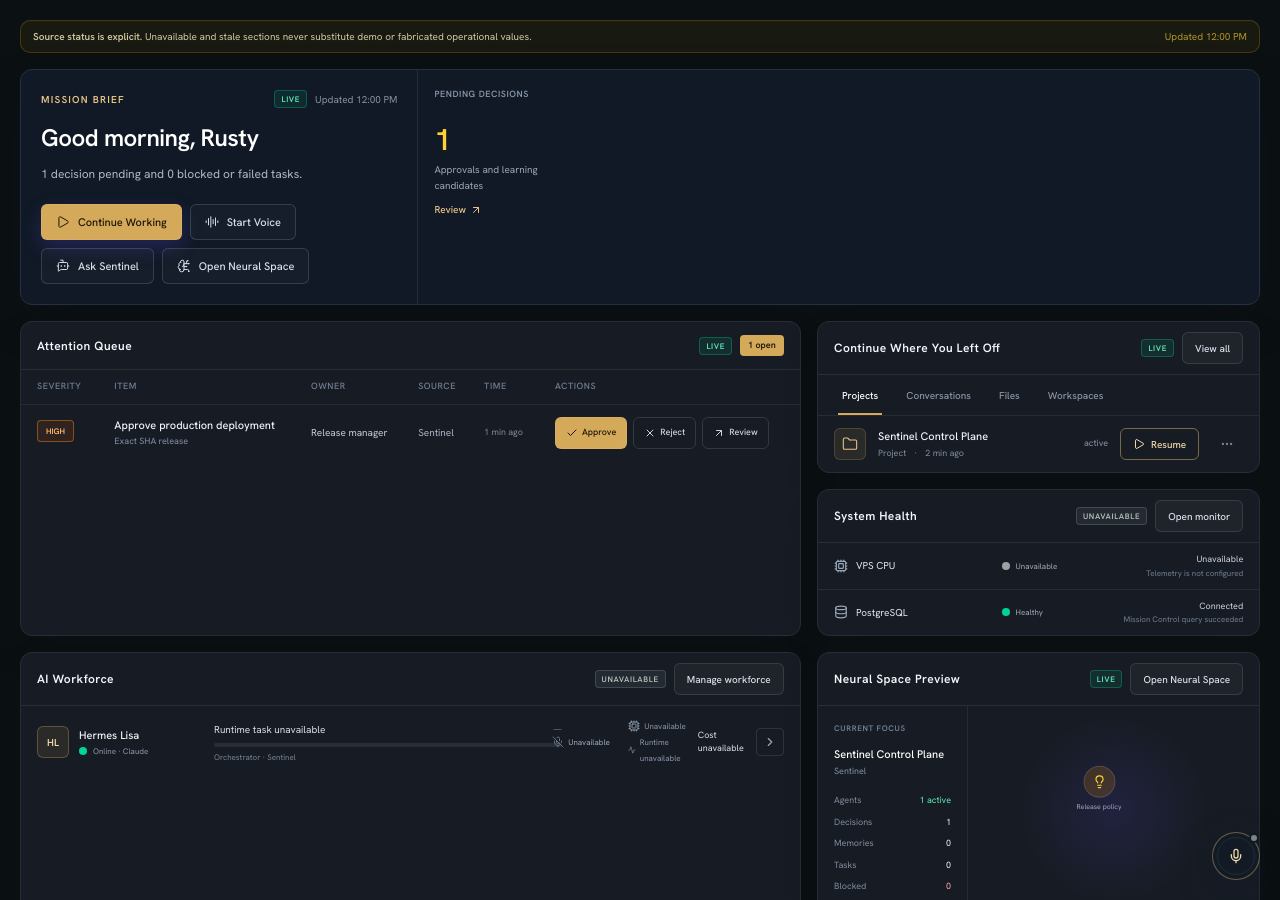
Test: MissionControlPage › keeps a failed approval visible and reports the error
Click the button with aria-label "approve approve production deployment" at (591, 432), box [555, 416, 627, 448]
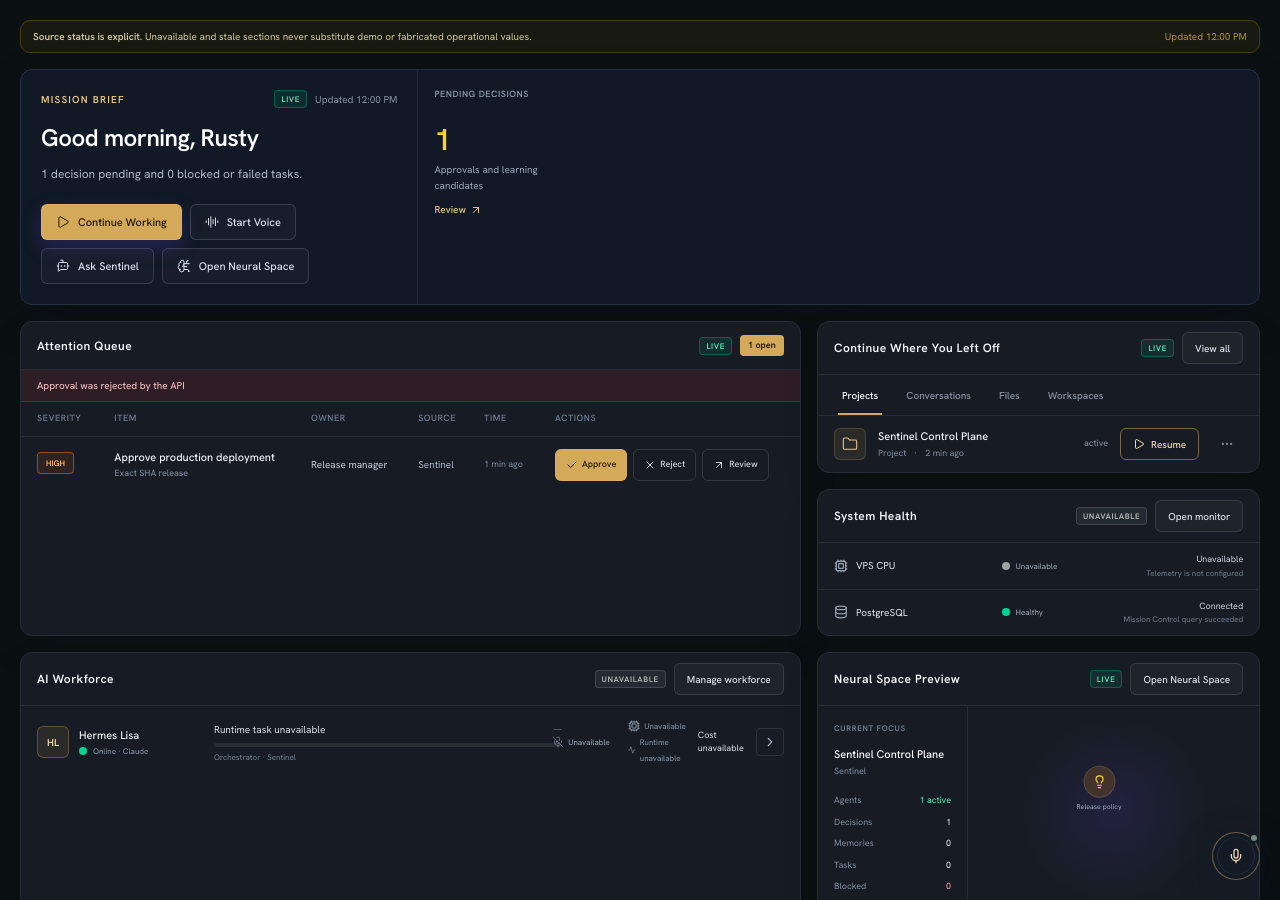
Result: the message "Approval was rejected by the API" is shown at [21, 370, 800, 402]
